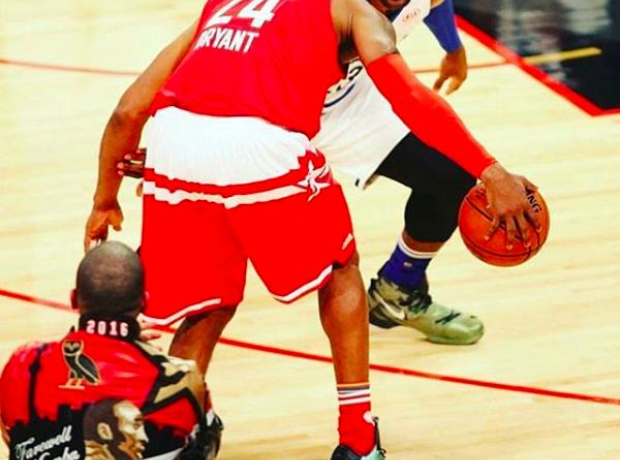ball: (455, 179, 553, 269)
player: (89, 3, 526, 459), (305, 1, 485, 346)
